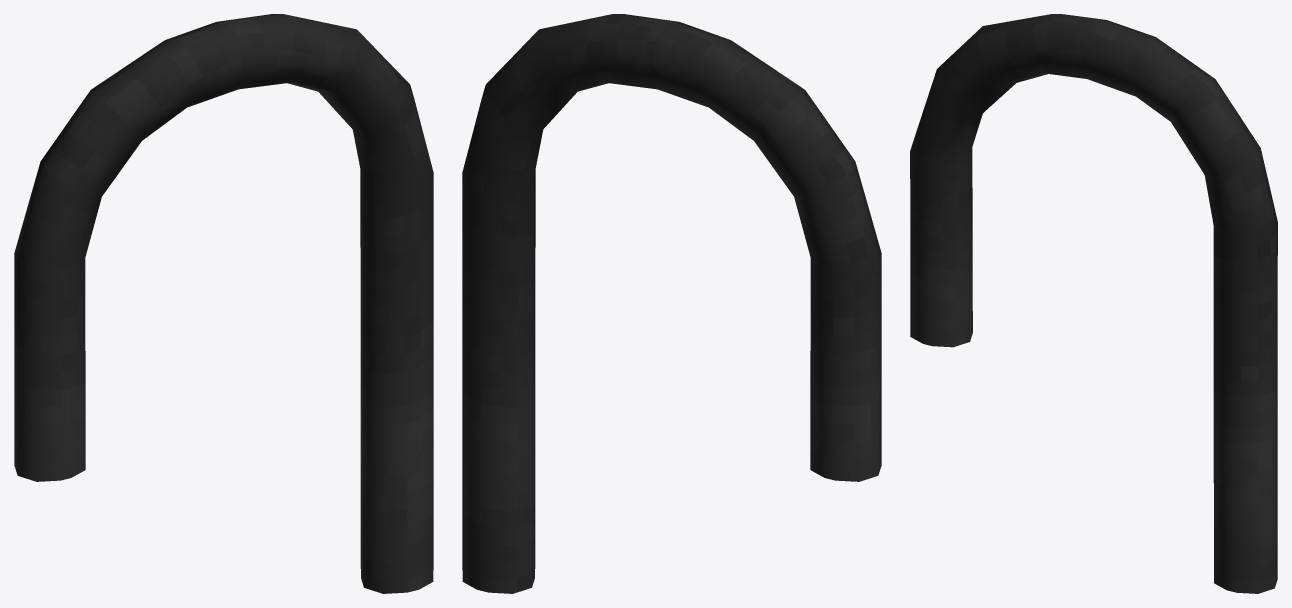
Rendered from padlock_4_shackle.glb.
3 renders of one model, left to right at view 1: azimuth 30°, elevation 25°; view 2: azimuth 150°, elevation 25°; view 3: azimuth 330°, elevation 25°, orthographic. The views are drawn at different scales.
Visible parts, largest first — view 1: padlock_4_shackle; view 2: padlock_4_shackle; view 3: padlock_4_shackle.
Boxes of the visible parts, x1,y1,x2,y2 form: padlock_4_shackle: (14,14,433,593); padlock_4_shackle: (462,14,881,593); padlock_4_shackle: (910,14,1277,593).
Bounding box in the file's own units: 0.0686 × 0.0951 × 0.0091.
Materials: 1 (1 with a texture image).
